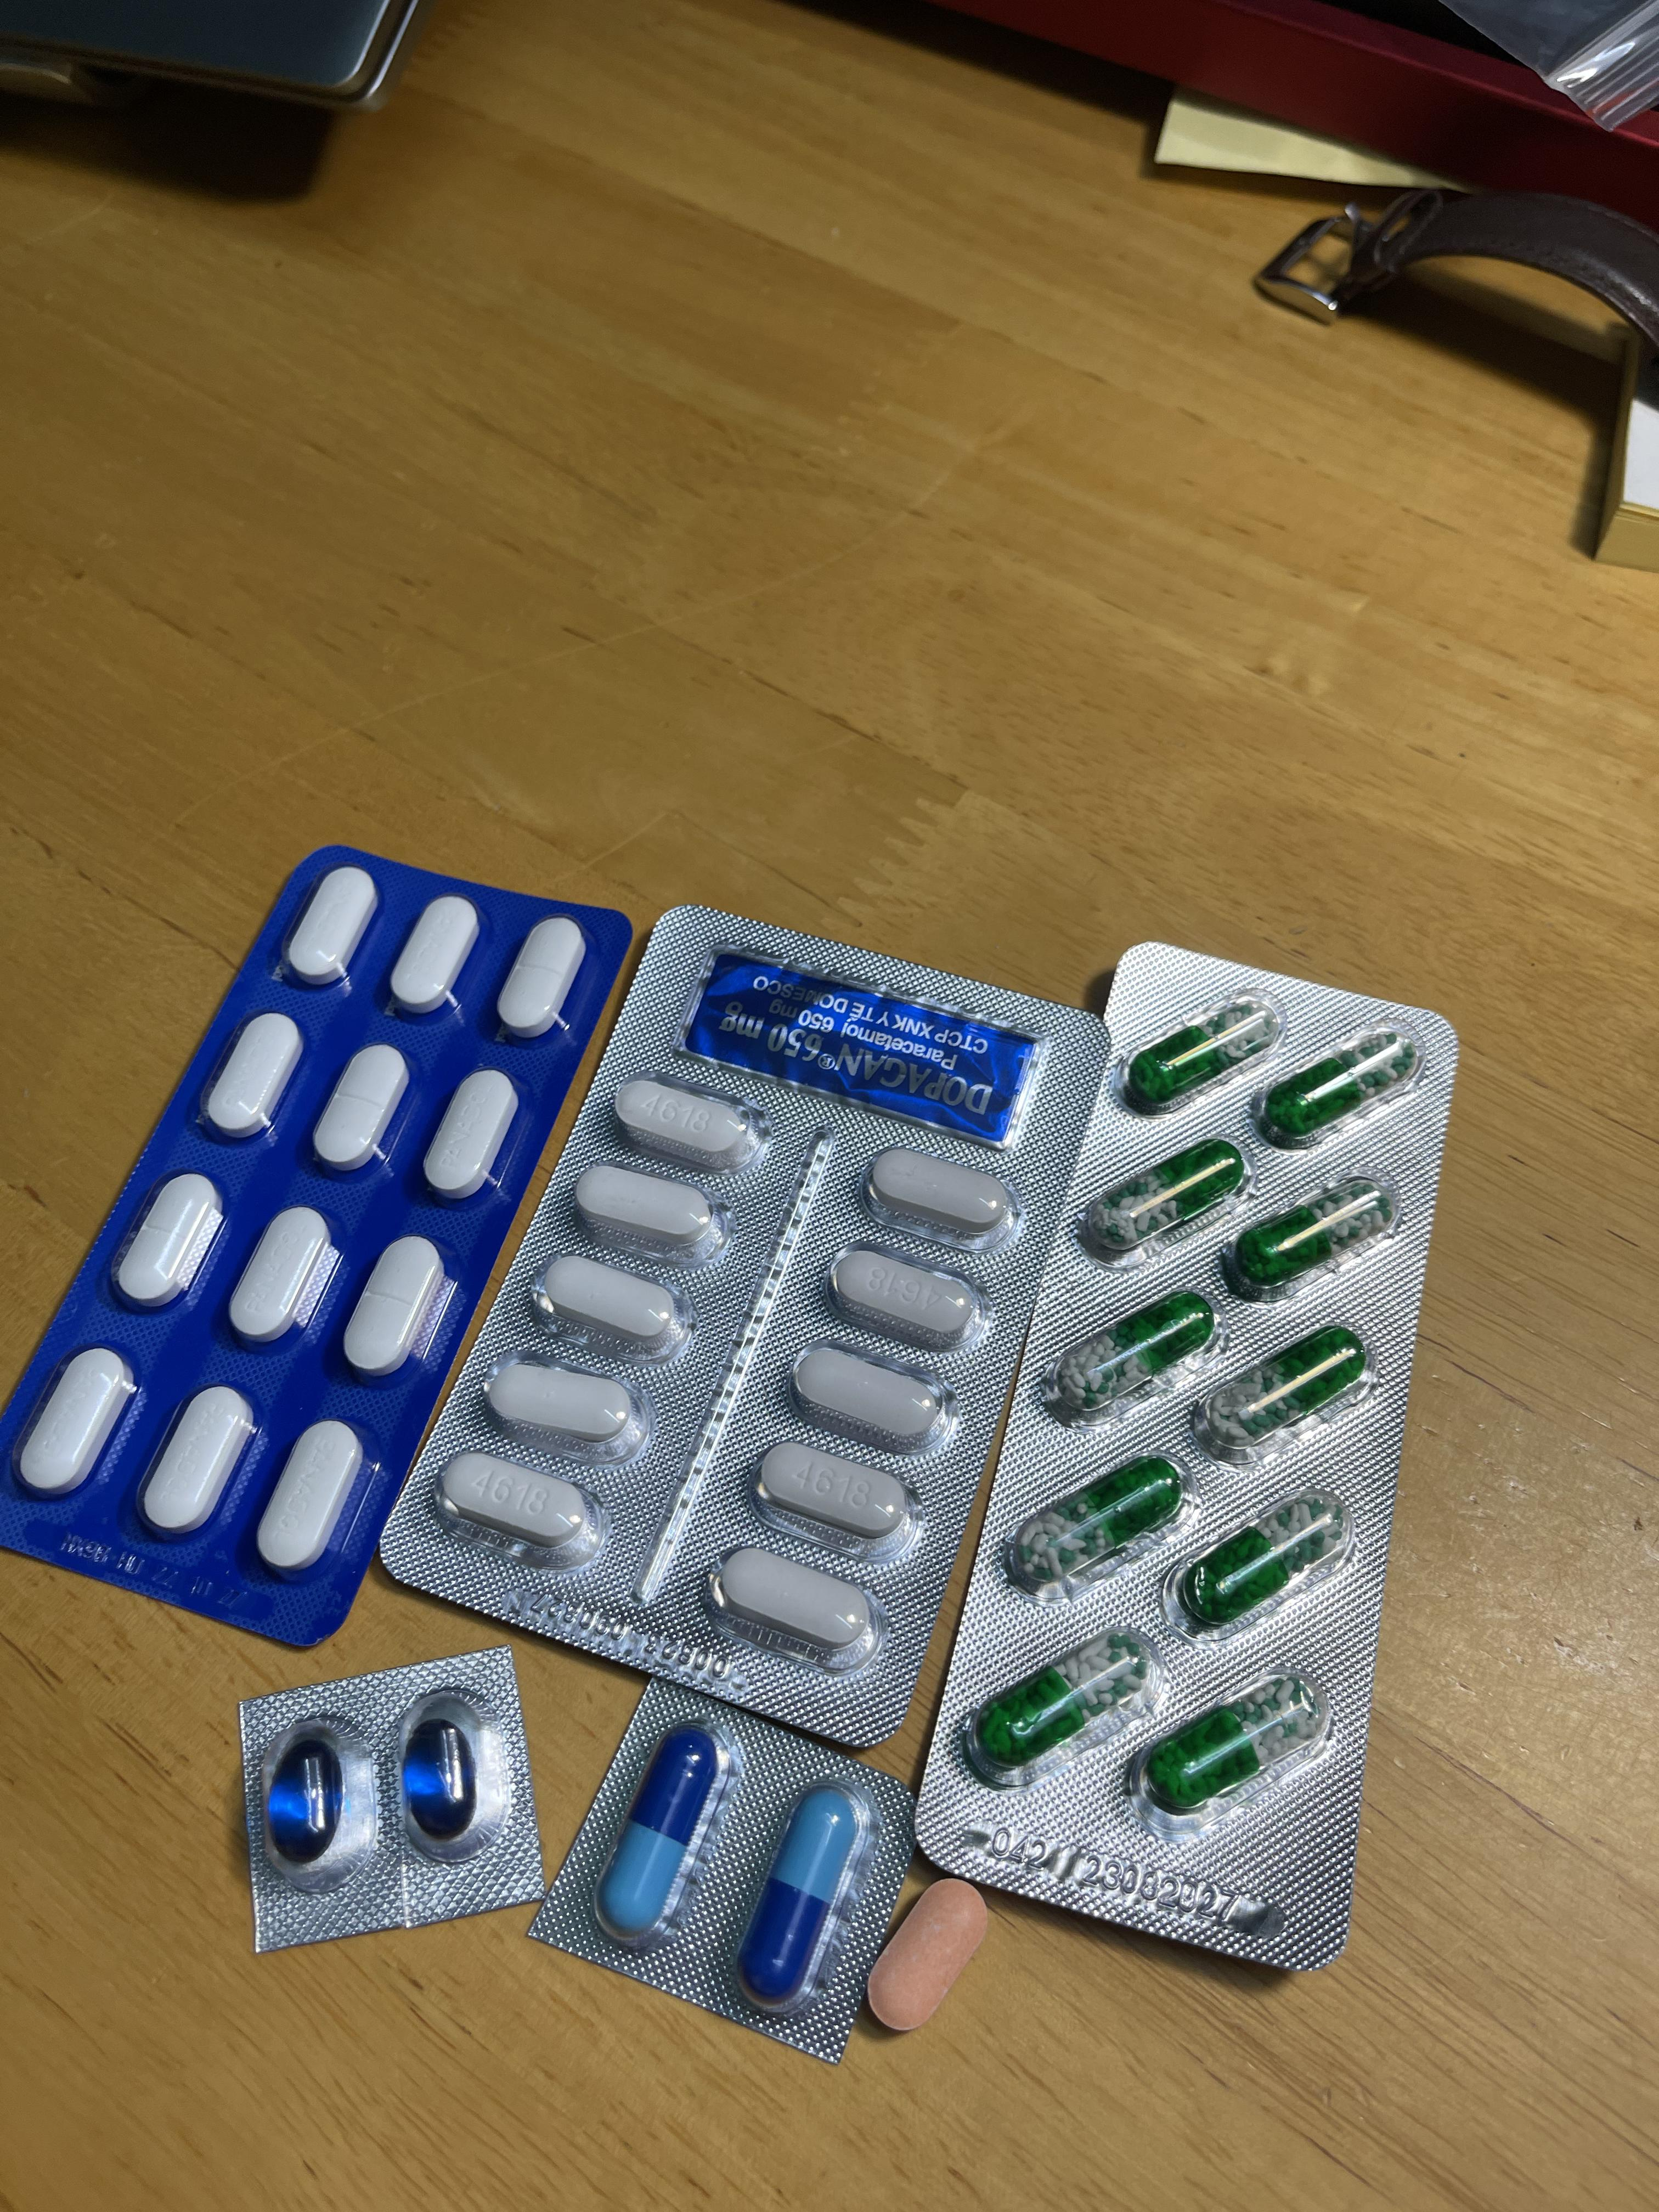Lincomyxin_500mg: (267, 1738, 343, 1858), (403, 1717, 477, 1836)
Loratadine_10mg: (864, 1876, 988, 2029)
Paracetamol_350mg: (138, 1383, 258, 1540), (14, 1345, 136, 1498), (254, 1420, 368, 1576), (225, 1205, 336, 1348), (343, 1235, 450, 1381), (112, 1172, 223, 1310), (202, 1012, 303, 1141), (310, 1043, 410, 1174), (422, 1069, 519, 1202), (282, 866, 380, 988), (389, 895, 481, 1017), (497, 916, 587, 1038)
Paracetamol_500mg: (749, 1439, 922, 1555), (711, 1545, 882, 1656), (823, 1244, 990, 1352), (439, 1449, 599, 1559), (863, 1143, 1021, 1247), (795, 1345, 943, 1447), (540, 1252, 687, 1352), (612, 1076, 760, 1174), (486, 1360, 643, 1451), (573, 1162, 721, 1254)
Paracetamol_650mg: (1141, 1667, 1328, 1817), (1173, 1489, 1352, 1635), (1195, 1325, 1377, 1468), (1004, 1454, 1185, 1594), (978, 1630, 1152, 1770), (1042, 1291, 1220, 1423), (1225, 1174, 1401, 1299), (1258, 1019, 1429, 1148), (1077, 1137, 1248, 1261), (1124, 993, 1283, 1111)
pill: (737, 1784, 864, 2005), (598, 1724, 727, 1939)
